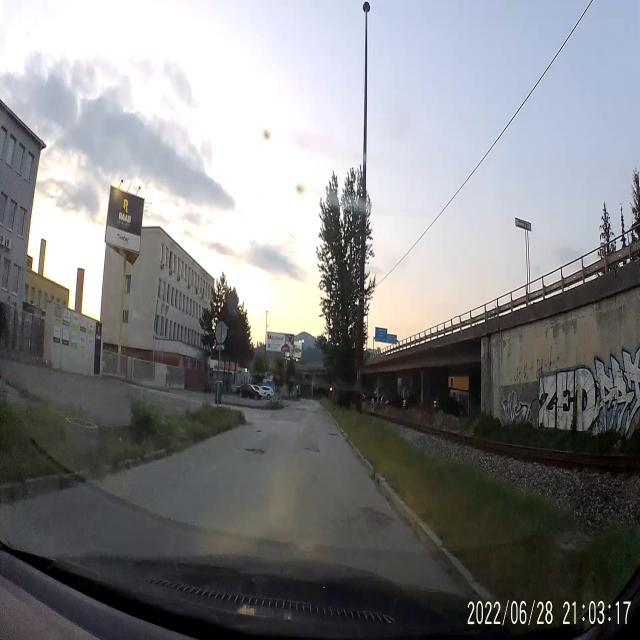Pothole: (360, 502, 394, 531), (245, 446, 268, 458), (304, 444, 322, 456), (328, 431, 338, 438), (256, 429, 262, 434)
